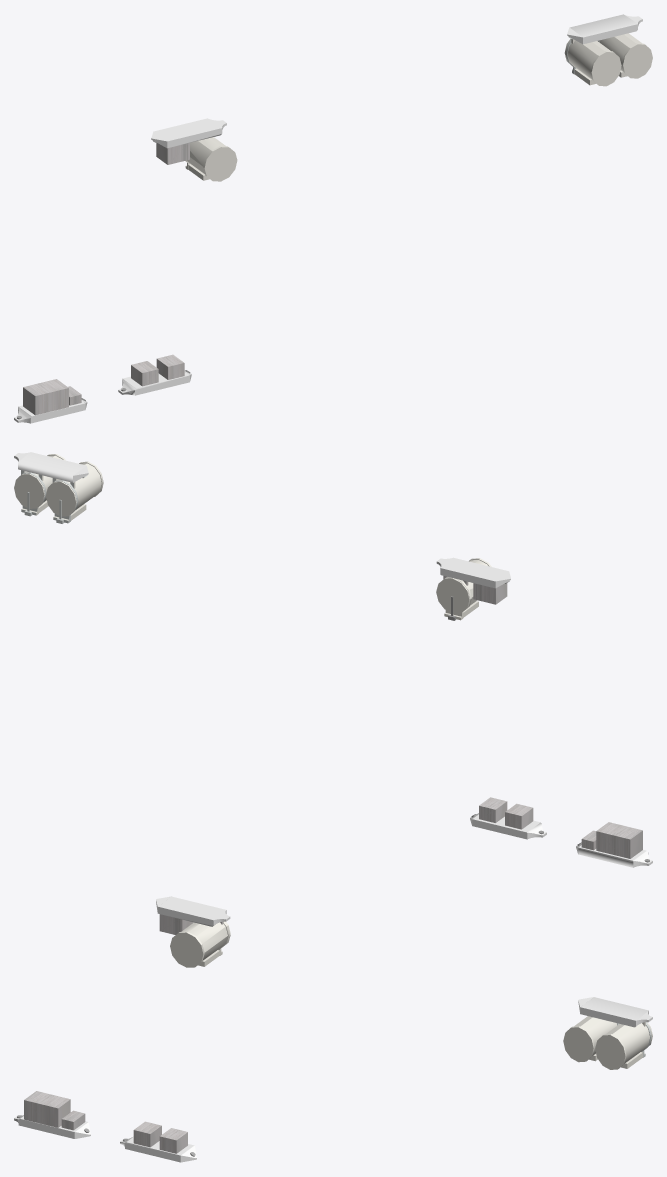
File: Payload.glb
The picture shows the model from 3 angles, top to bottom: view 1: azimuth 30°, elevation 25°; view 2: azimuth 150°, elevation 25°; view 3: azimuth 330°, elevation 25°; orthographic projection.
Visible parts, largest first — view 1: payload.la; view 2: payload.la; view 3: payload.la.
Part boxes in pixels (box(x1,y1,x2,y2)): payload.la: box(14, 14, 652, 423); payload.la: box(14, 452, 652, 867); payload.la: box(14, 896, 652, 1162).
Bounding box in the file's own units: 476 × 183 × 37.82.
Materials: 6 (1 with a texture image).
